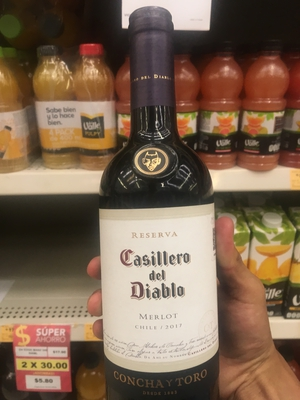casillero del diablo merlot: (87, 10, 223, 400)
